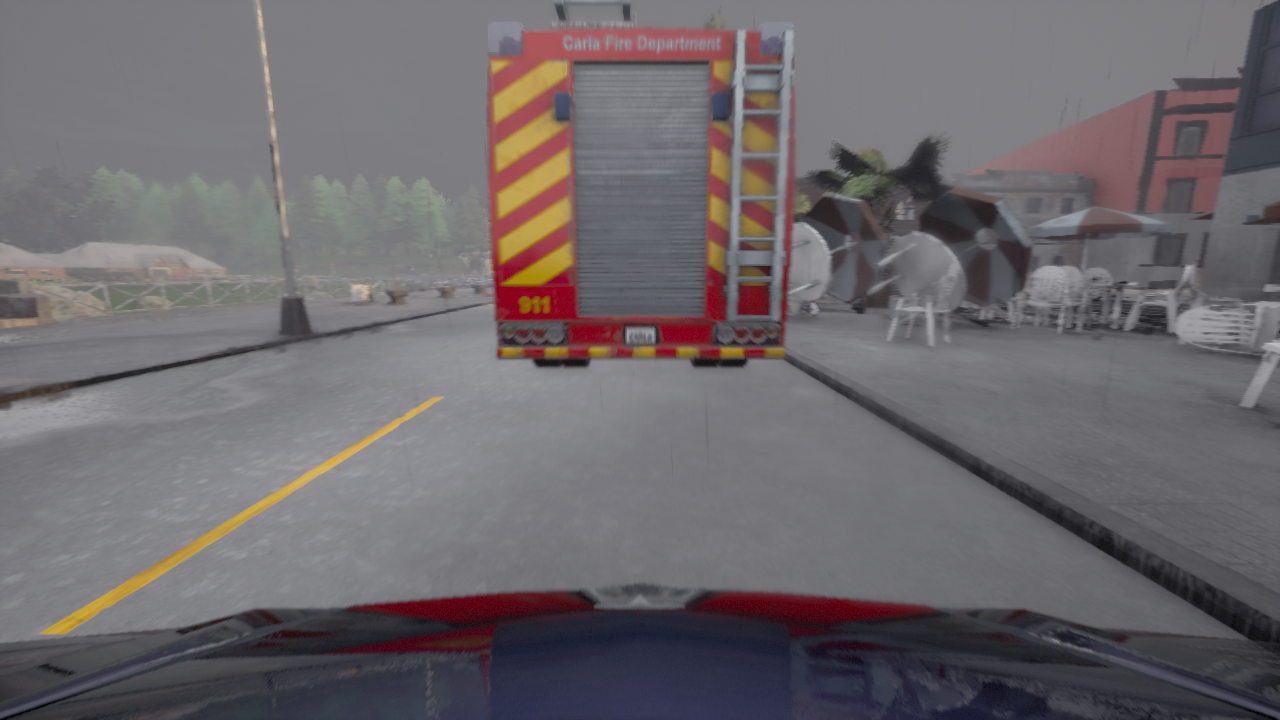cyclist: (0, 584, 1279, 719), (488, 0, 794, 366)
